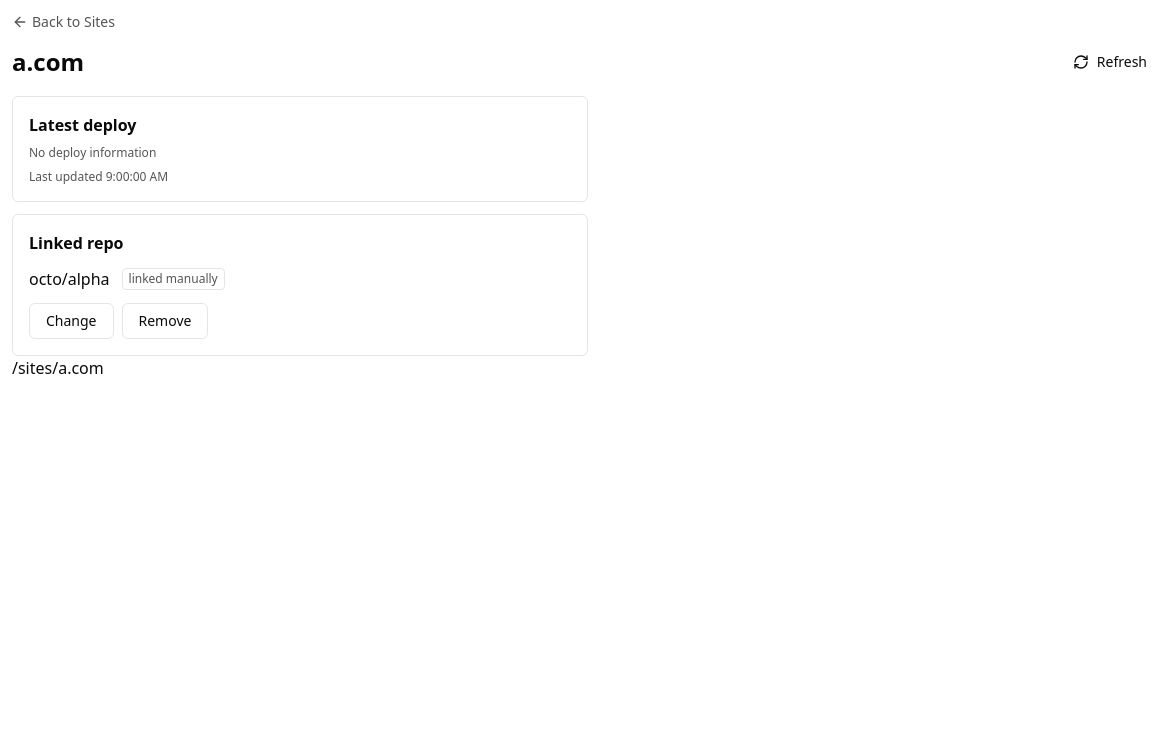
Test case: SiteDetailPage › Change picks another repo and marks the current one
Click the button "Change" at (71, 321), box [29,303,114,339]
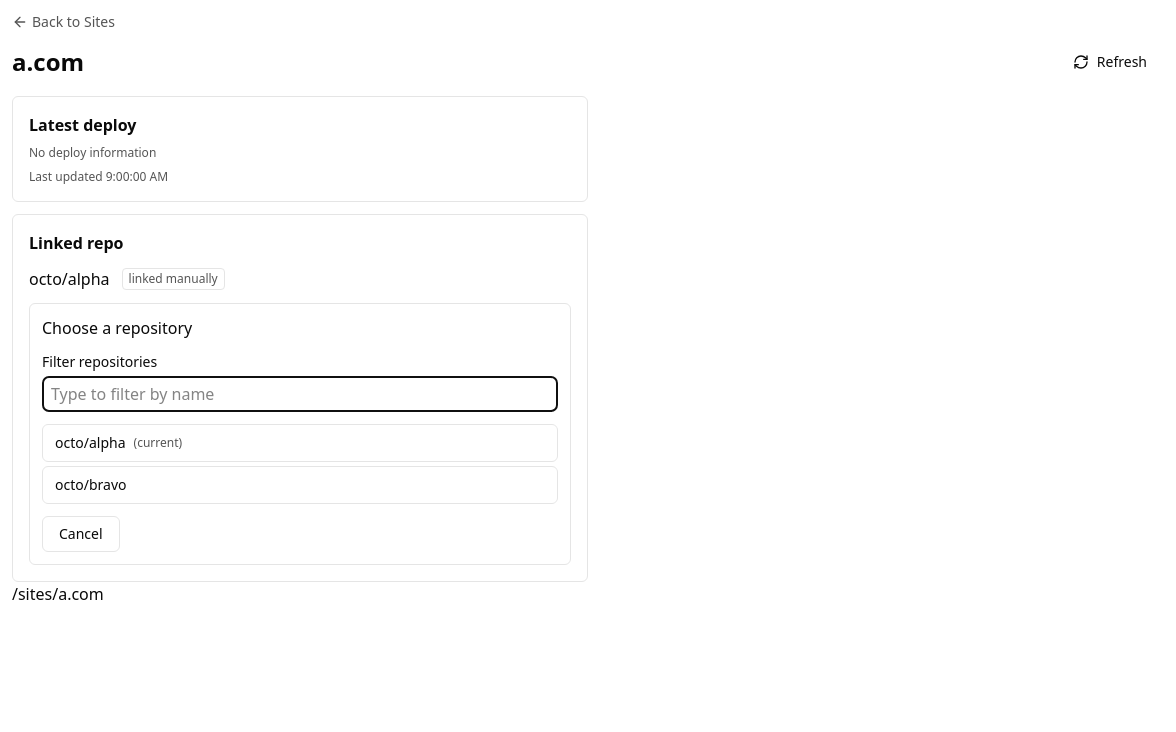
Click the button "octo/bravo" at (91, 484), box [42,466,558,504]
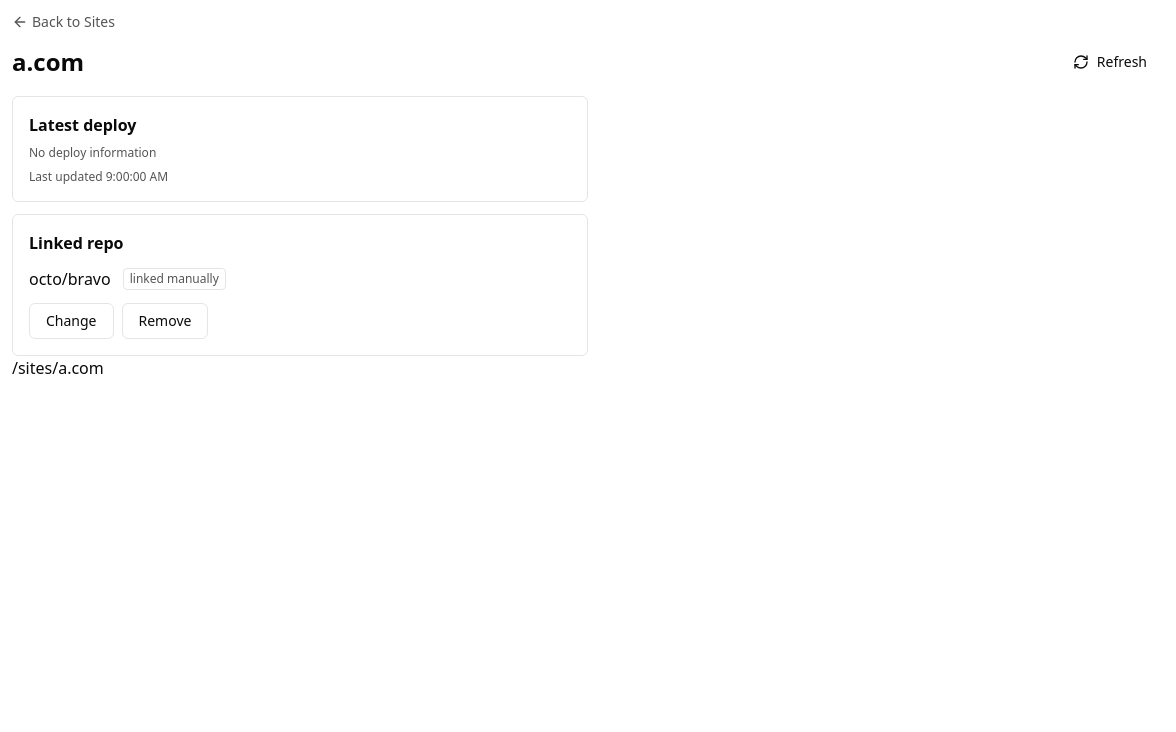
Expected: the button with test id "site-repo" reads "octo/bravo", [29,267,111,291]
